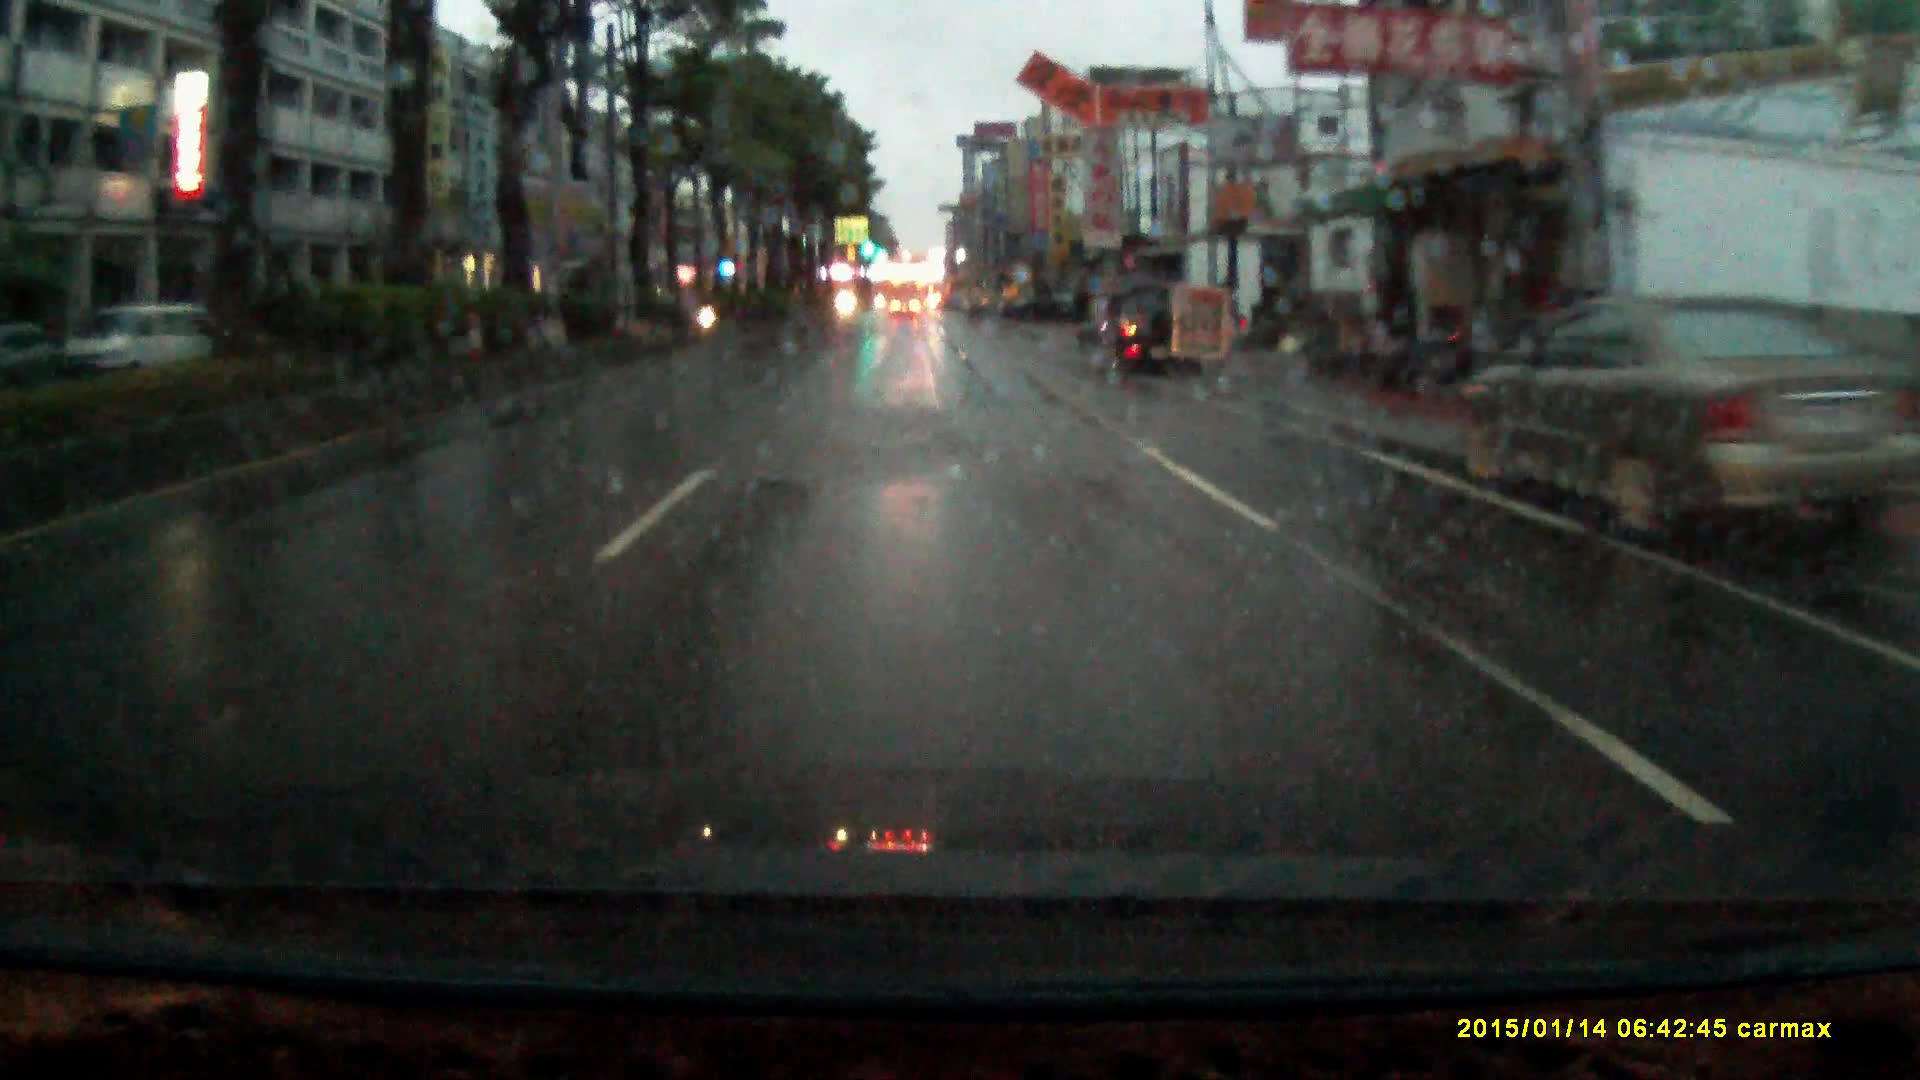vehicle: (1457, 294, 1920, 546), (1077, 284, 1203, 382), (76, 301, 236, 375), (1, 320, 62, 382), (893, 297, 920, 319)
